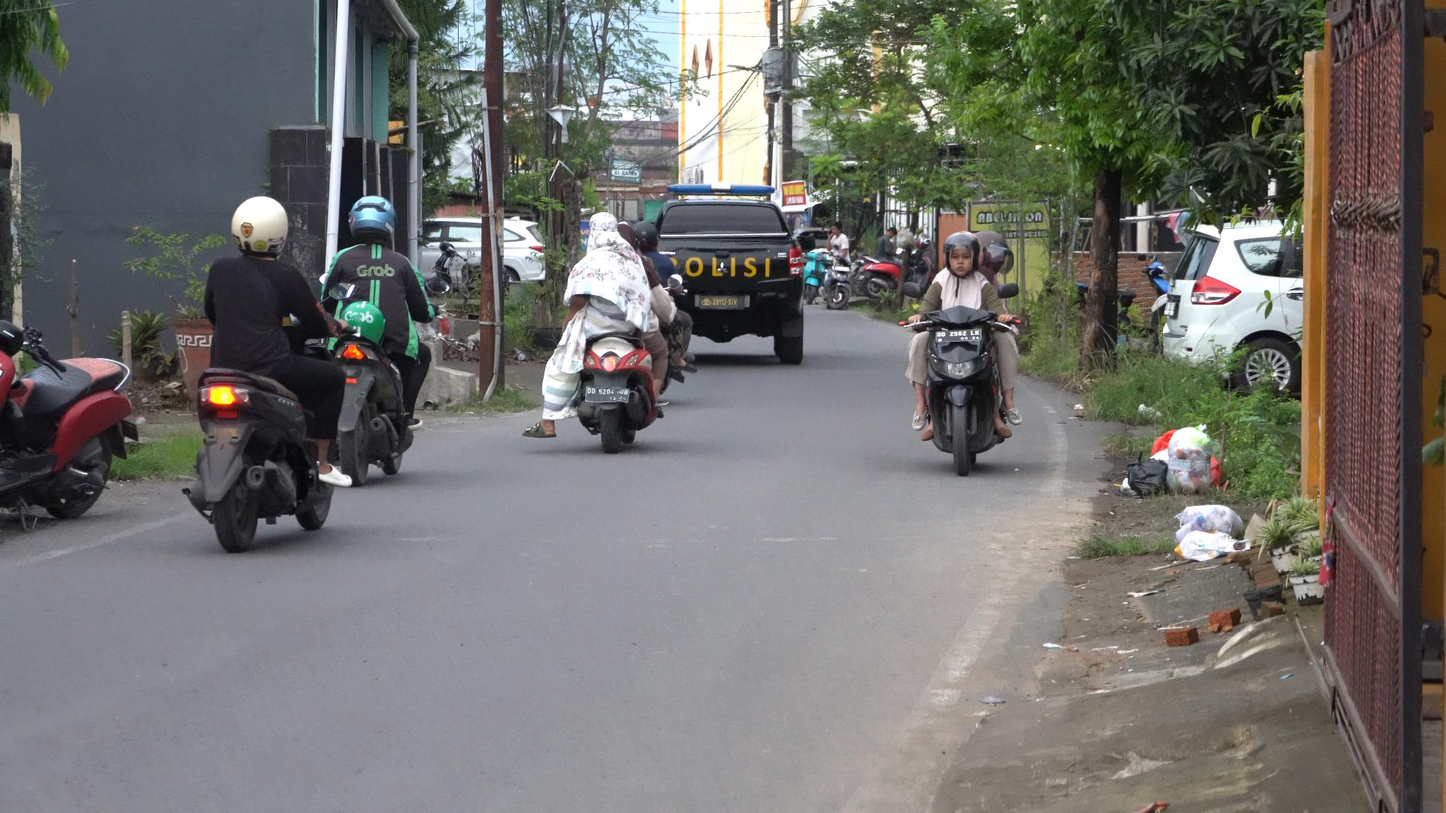number-plate: (935, 327, 985, 343)
